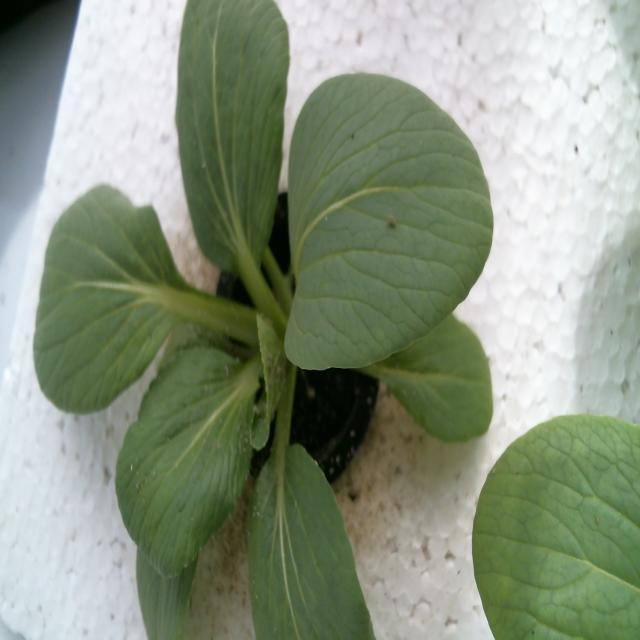pakcoy_tidak_sehat: (30, 0, 496, 640)
